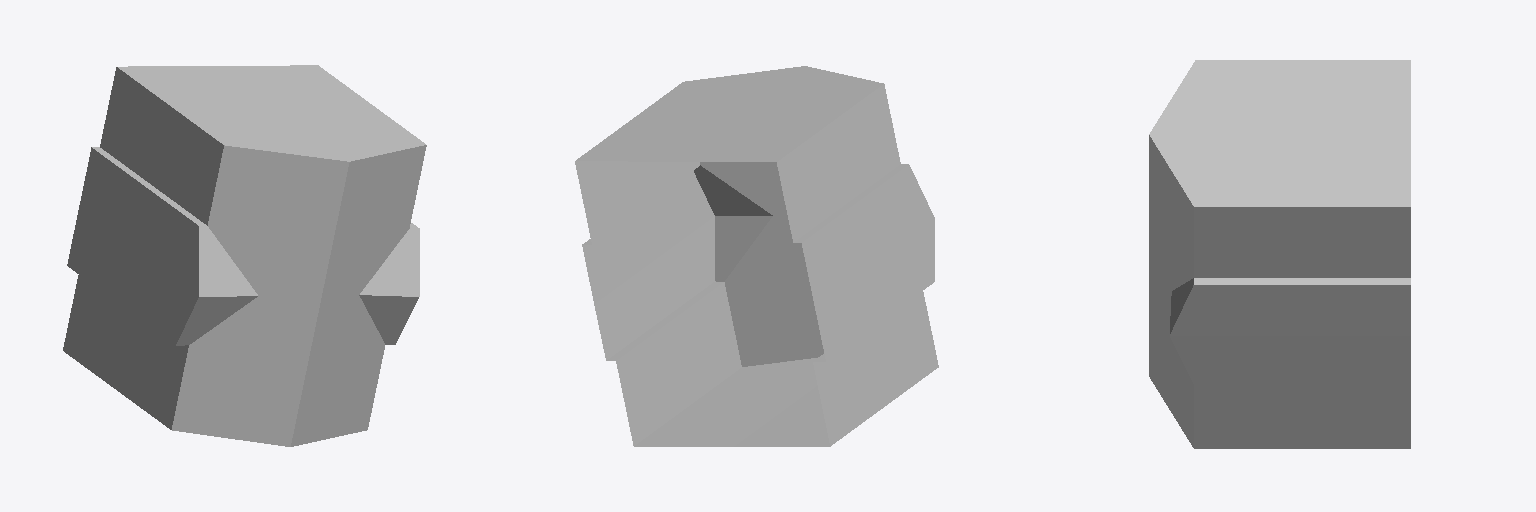
File: talo_Build0000055.obj
3 views of the same model, side by side, from view 1: azimuth 30°, elevation 25°; view 2: azimuth 150°, elevation 25°; view 3: azimuth 270°, elevation 25° (orthographic).
Bounding box in the file's own units: 17.76 × 21.19 × 15.76.